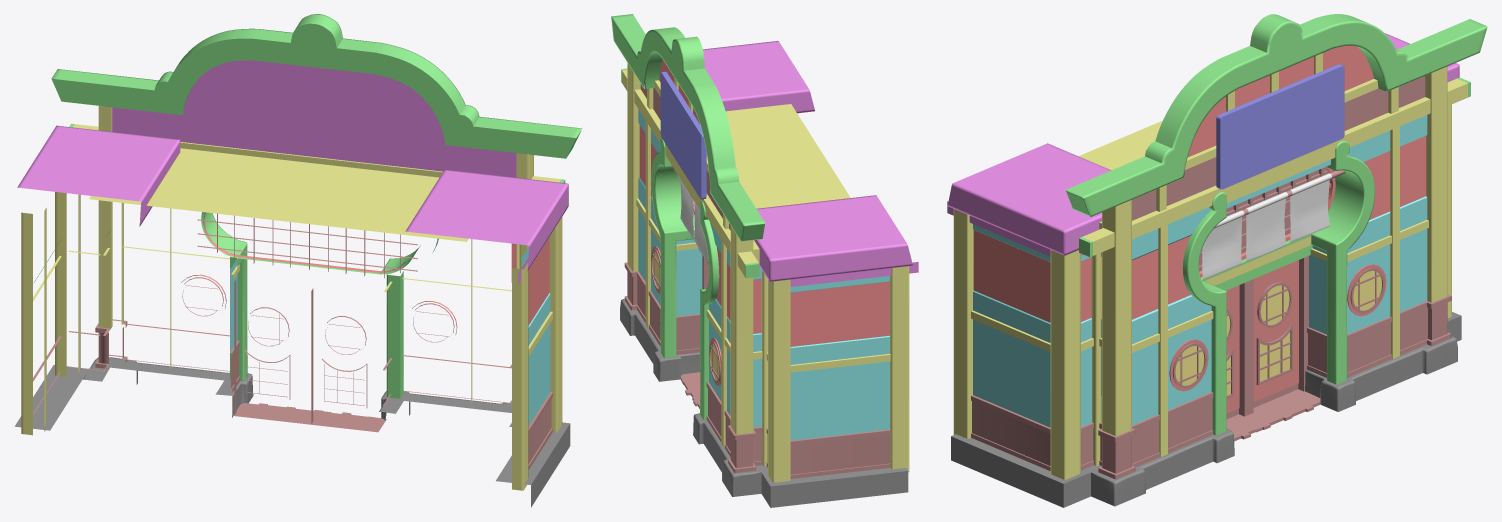
File: SM_ENV_KNVLLG03_AreaB_BuildingAe.gltf
3 renders of one model, left to right at view 1: azimuth 30°, elevation 25°; view 2: azimuth 150°, elevation 25°; view 3: azimuth 270°, elevation 25°, orthographic. The views are drawn at different scales.
Parts seen in each view (by area): view 1: SM_ENV_KNVLLG03_AreaB_BuildingAe; view 2: SM_ENV_KNVLLG03_AreaB_BuildingAe; view 3: SM_ENV_KNVLLG03_AreaB_BuildingAe.
Part boxes in pixels (x1,y1,x2,y2): SM_ENV_KNVLLG03_AreaB_BuildingAe: (14, 14, 582, 507); SM_ENV_KNVLLG03_AreaB_BuildingAe: (611, 14, 918, 507); SM_ENV_KNVLLG03_AreaB_BuildingAe: (947, 14, 1487, 507).
Size of the model in its own units: 10.69 by 8.98 by 10.71.
